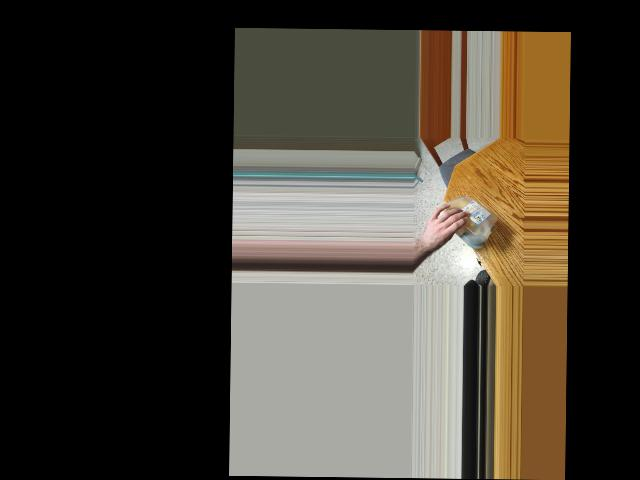cheese: (431, 193, 498, 246)
